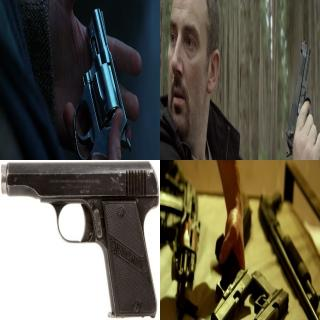gun: (0, 160, 158, 313), (72, 6, 130, 160), (261, 182, 313, 314), (282, 34, 320, 160), (218, 270, 285, 318), (166, 184, 198, 282)
